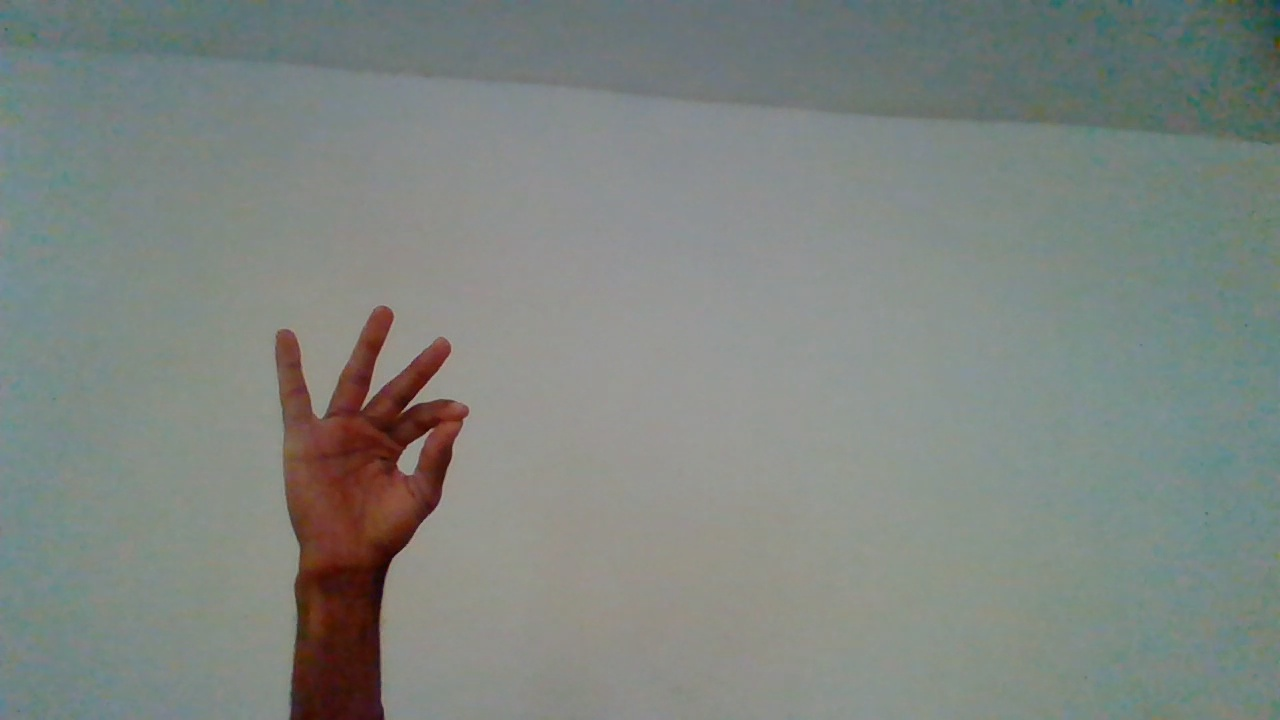le: (273, 305, 473, 685)
